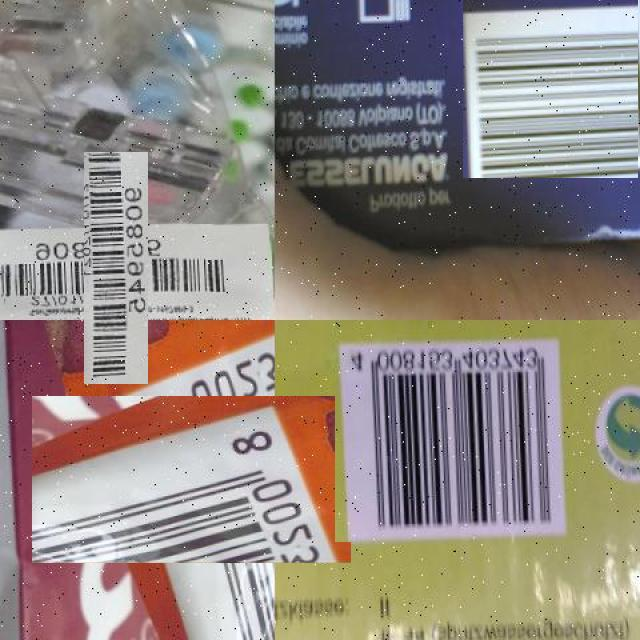Barcode: (70, 358, 313, 602), (335, 338, 561, 542), (461, 0, 639, 177), (42, 194, 190, 343)
